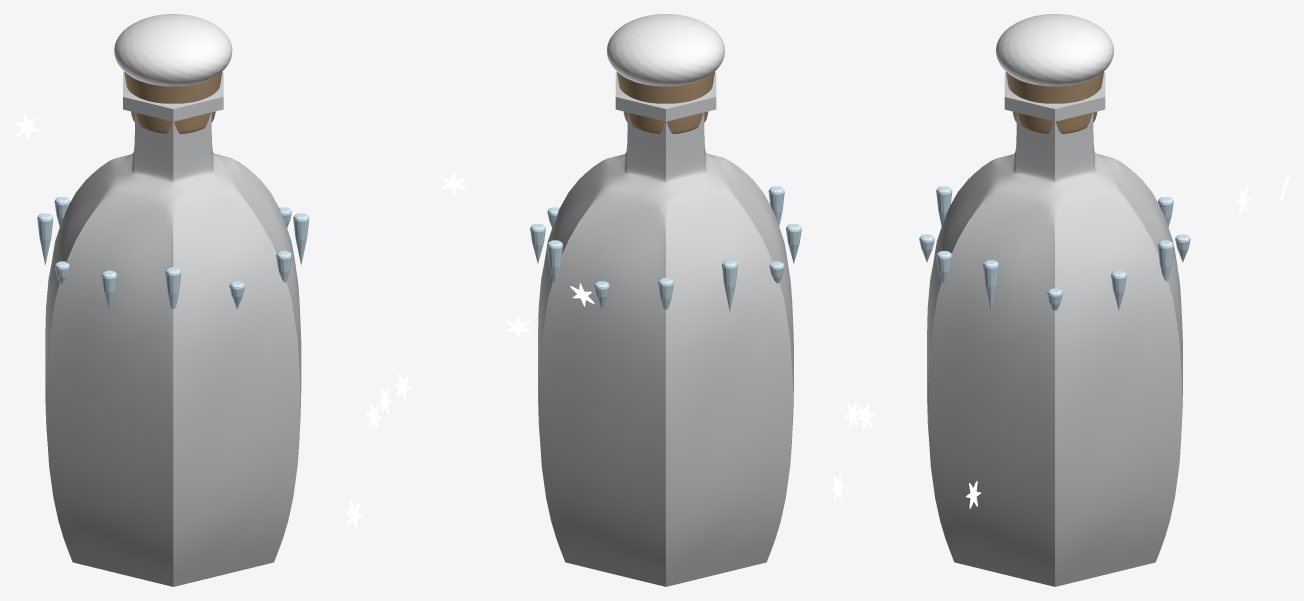
File: frostelixir.glb
3 views of the same model, side by side, from view 1: azimuth 30°, elevation 25°; view 2: azimuth 150°, elevation 25°; view 3: azimuth 270°, elevation 25° (orthographic).
Parts seen in each view (by area): view 1: FrostElixir_Glass, FrostElixir_SnowCap, FrostElixir_Cork, FrostElixir_Icicle.011, FrostElixir_Icicle.005; view 2: FrostElixir_Glass, FrostElixir_SnowCap, FrostElixir_Cork, FrostElixir_Icicle.005, FrostElixir_Icicle.002; view 3: FrostElixir_Glass, FrostElixir_SnowCap, FrostElixir_Cork.
Part boxes in pixels (<box>): FrostElixir_Glass: <box>45,72,301,586</box>; FrostElixir_SnowCap: <box>114,14,232,86</box>; FrostElixir_Cork: <box>124,72,222,133</box>; FrostElixir_Icicle.011: <box>293,213,309,264</box>; FrostElixir_Icicle.005: <box>37,213,53,264</box>; FrostElixir_Glass: <box>538,72,793,586</box>; FrostElixir_SnowCap: <box>607,14,724,86</box>; FrostElixir_Cork: <box>617,72,714,133</box>; FrostElixir_Icicle.005: <box>722,260,737,311</box>; FrostElixir_Icicle.002: <box>547,240,563,281</box>; FrostElixir_Glass: <box>927,72,1182,586</box>; FrostElixir_SnowCap: <box>996,14,1113,86</box>; FrostElixir_Cork: <box>1006,71,1103,133</box>.
Bounding box in the file's own units: 1.62 × 2.44 × 1.97.
